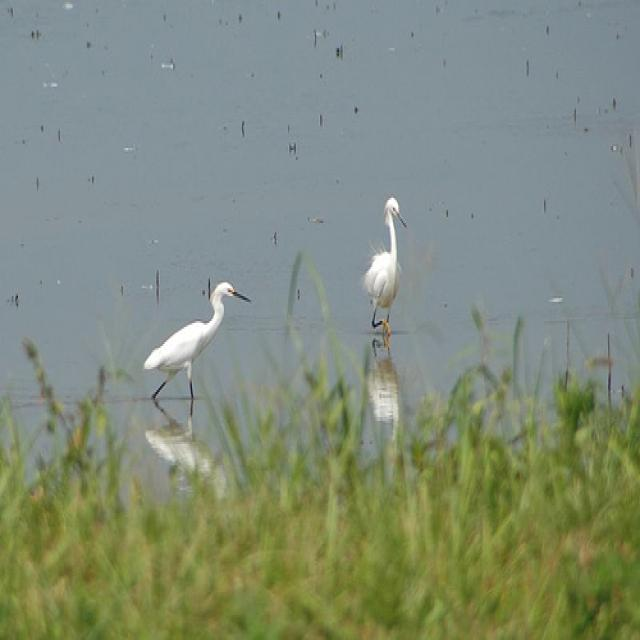bird: (143, 280, 253, 401), (363, 191, 407, 353)
